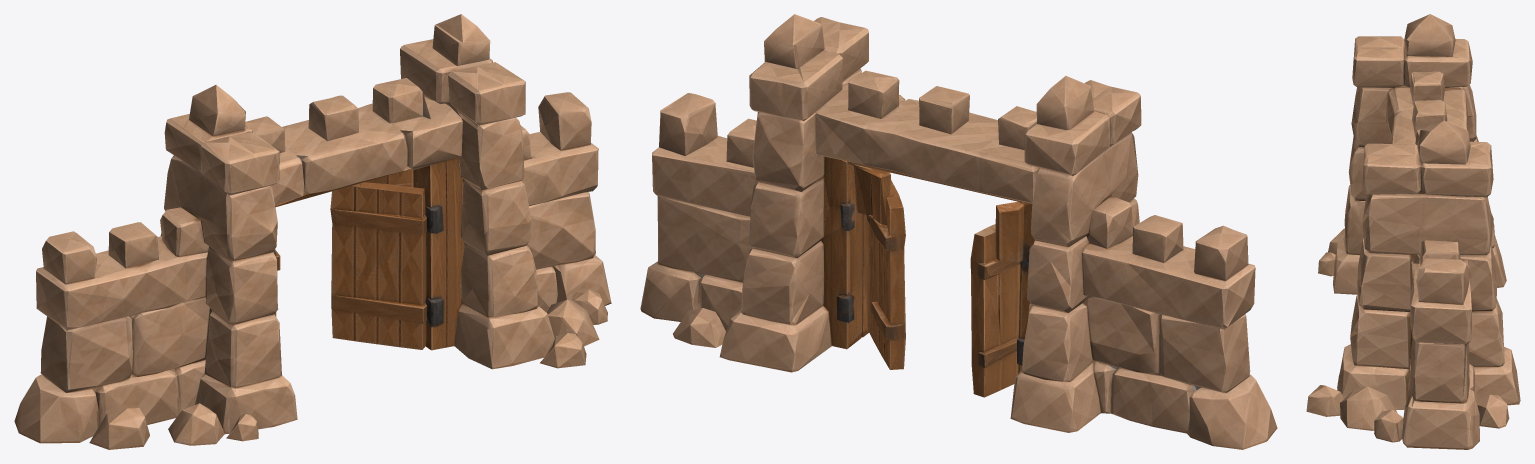
File: refuge-gate.glb
3 views of the same model, side by side, from view 1: azimuth 30°, elevation 25°; view 2: azimuth 150°, elevation 25°; view 3: azimuth 270°, elevation 25° (orthographic). The views are drawn at different scales.
Bounding box in the file's own units: 1.9 × 0.9546 × 0.6825.
Materials: 1 (1 with a texture image).
